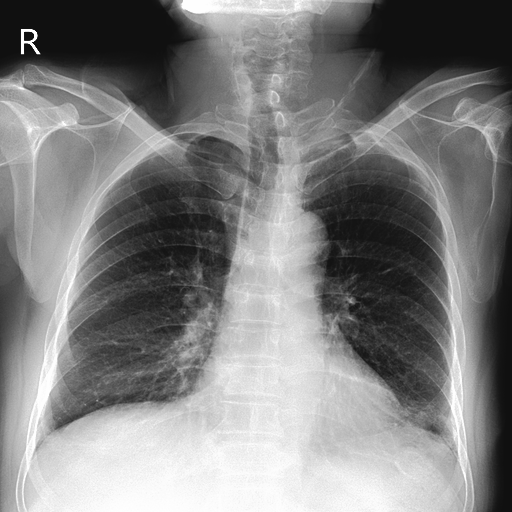Calcification: (374, 133, 419, 166), (299, 131, 352, 154)
Consolidation: (266, 205, 331, 270)
Nodule/Mass: (185, 362, 408, 434)
